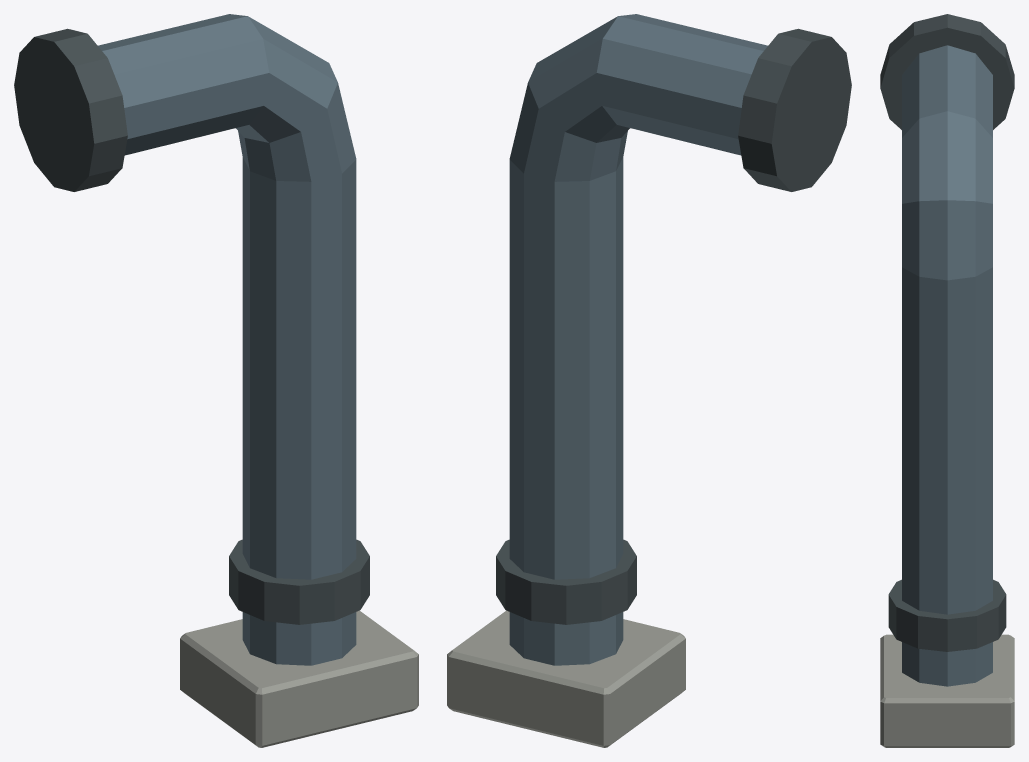
File: Waterworks_PumpDischargePipe.fbx
3 renders of one model, left to right at view 1: azimuth 30°, elevation 25°; view 2: azimuth 150°, elevation 25°; view 3: azimuth 270°, elevation 25°, orthographic. The views are drawn at different scales.
Visible parts, largest first — view 1: Waterworks_PumpDischargePipe; view 2: Waterworks_PumpDischargePipe; view 3: Waterworks_PumpDischargePipe.
Boxes of the visible parts, x1=… form: Waterworks_PumpDischargePipe: x1=14, y1=14, x2=418, y2=747; Waterworks_PumpDischargePipe: x1=447, y1=14, x2=851, y2=747; Waterworks_PumpDischargePipe: x1=880, y1=14, x2=1014, y2=747.
Bounding box in the file's own units: 0.962 × 2.02 × 0.41.
